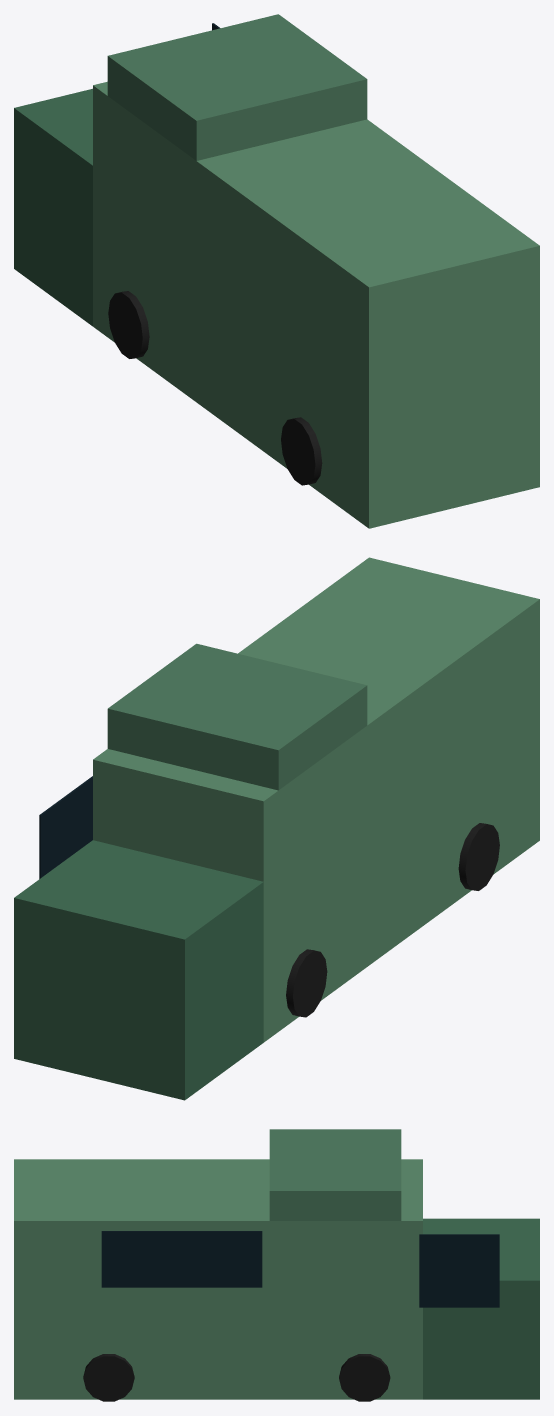
The model's file is rv-class-b.glb.
3 renders of one model, top to bottom at view 1: azimuth 30°, elevation 25°; view 2: azimuth 150°, elevation 25°; view 3: azimuth 270°, elevation 25°, orthographic. The views are drawn at different scales.
Bounding box in the file's own units: 2.16 × 3.15 × 7.2.
